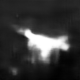plane: (14, 24, 71, 65)
